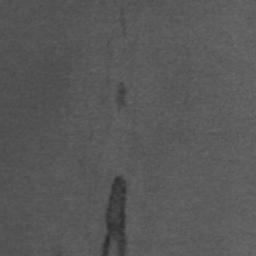Iron scale compression: (101, 176, 127, 256), (116, 82, 126, 114)
